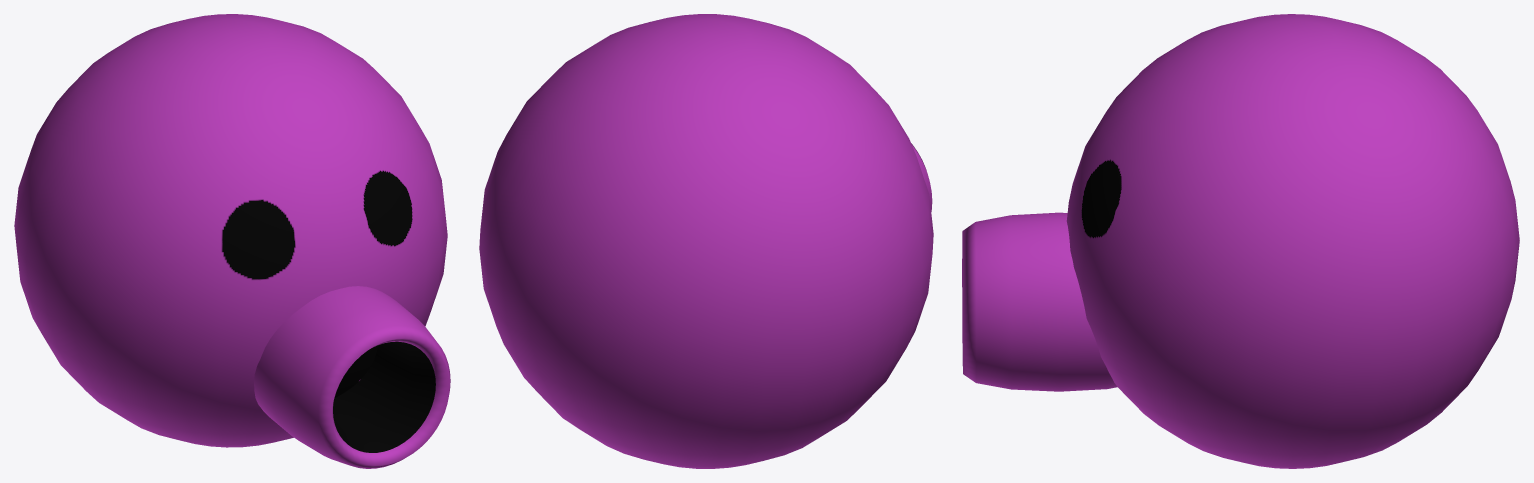
Rendered from enemy_shot.fbx.
3 renders of one model, left to right at view 1: azimuth 30°, elevation 25°; view 2: azimuth 150°, elevation 25°; view 3: azimuth 270°, elevation 25°, orthographic. The views are drawn at different scales.
Visible parts, largest first — view 1: 球, トーラス, トーラス.001; view 2: 球; view 3: 球, トーラス, トーラス.001.
Part boxes in pixels (x1=…): 球: x1=14, y1=14, x2=447, y2=447; トーラス: x1=254, y1=286, x2=450, y2=468; トーラス.001: x1=254, y1=286, x2=450, y2=468; 球: x1=479, y1=14, x2=933, y2=468; 球: x1=1066, y1=14, x2=1519, y2=468; トーラス: x1=962, y1=212, x2=1117, y2=391; トーラス.001: x1=962, y1=213, x2=1115, y2=390.
Bounding box in the file's own units: 200 × 200 × 245.
2 materials, 2 textured.
